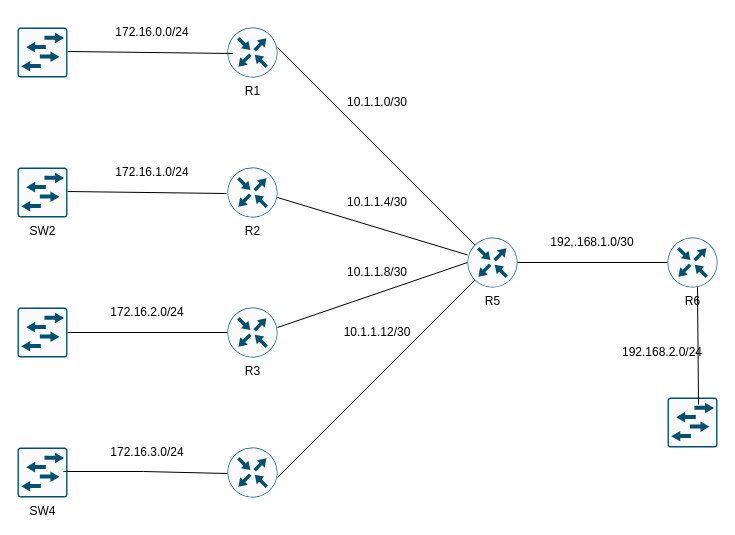
Some shapes in this 735 by 535 pixel diagram are drawn without their labels. Each missing label, with the centre of its shape:
"R4" belongs at point (252, 472).
"SW1" belongs at point (42, 52).
"SW3" belongs at point (42, 332).
"SW5" belongs at point (692, 422).
